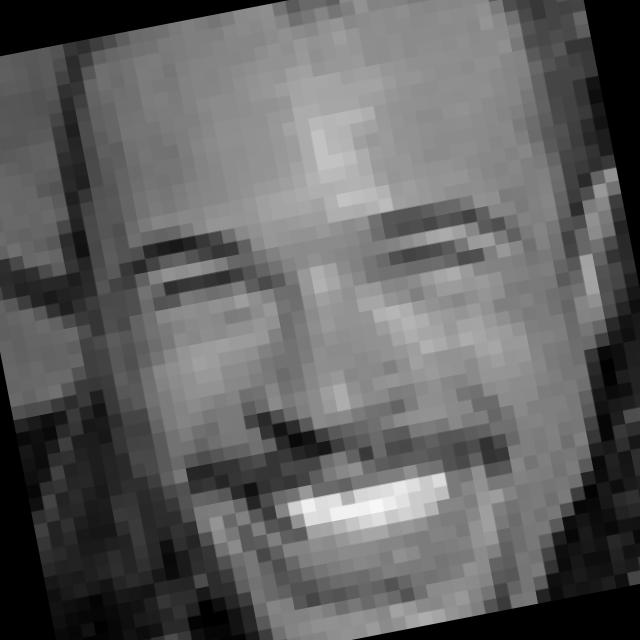happy: (116, 159, 589, 634)
